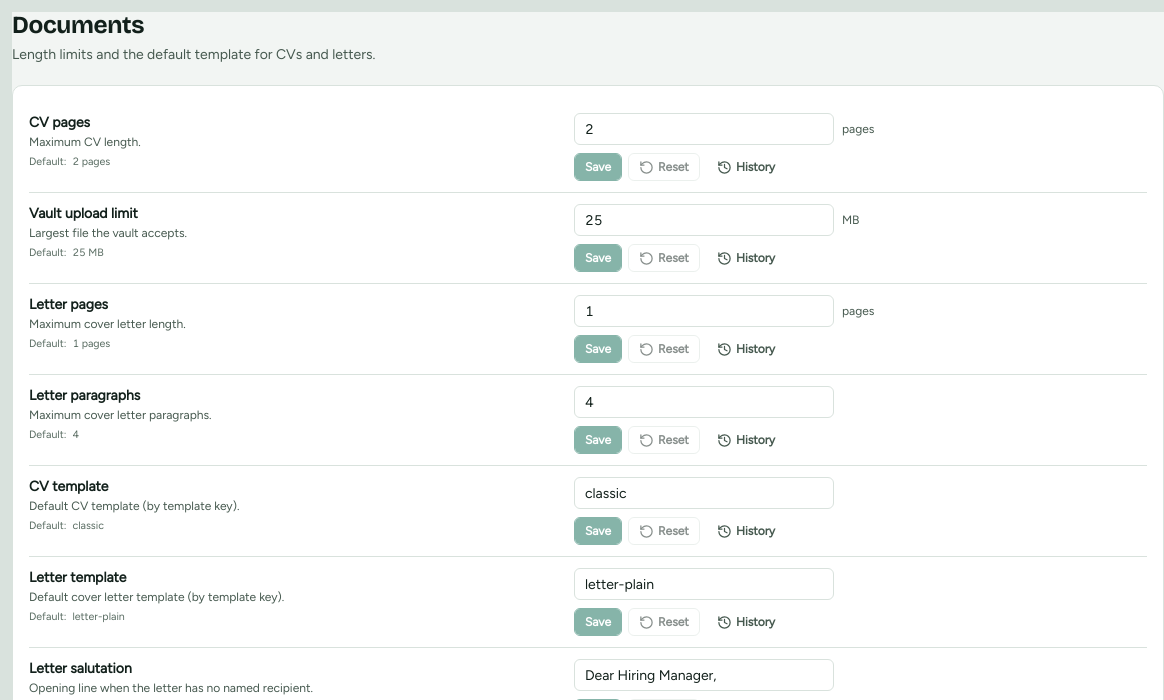
it: SettingRow › lists who changed it in the setting's history
Replace the text in the field labelled "CV pages" with "3": (704, 129) [574,113,834,145]
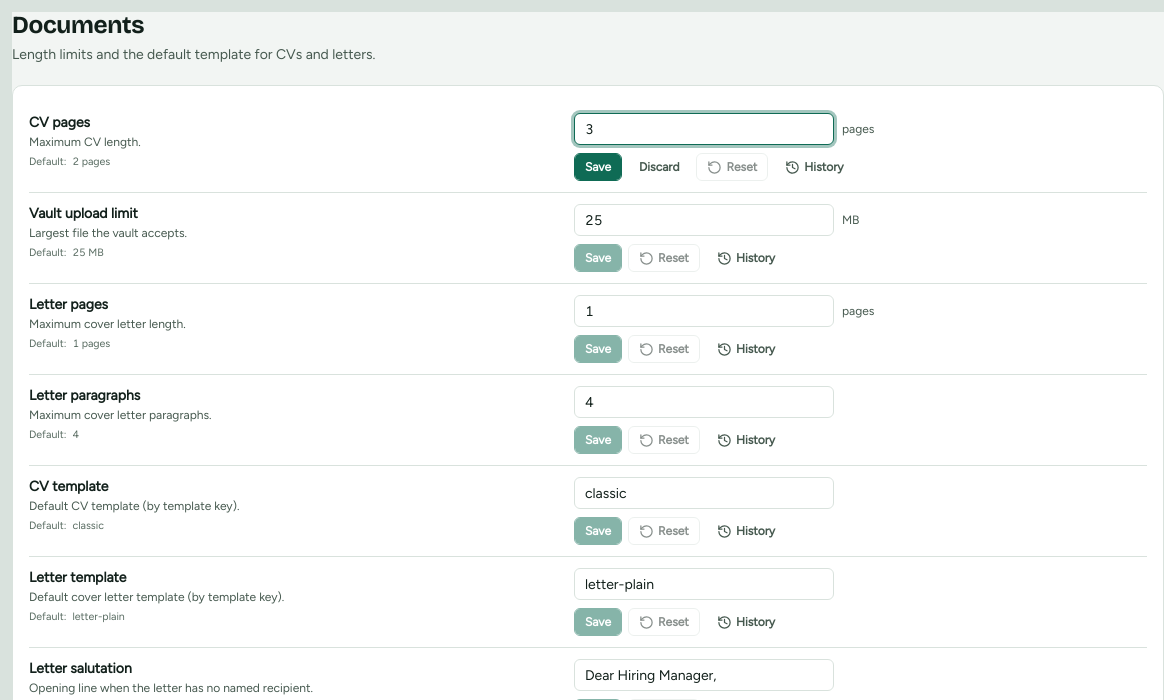
Click the button with aria-label "Save CV pages": (598, 167) [574,153,622,181]
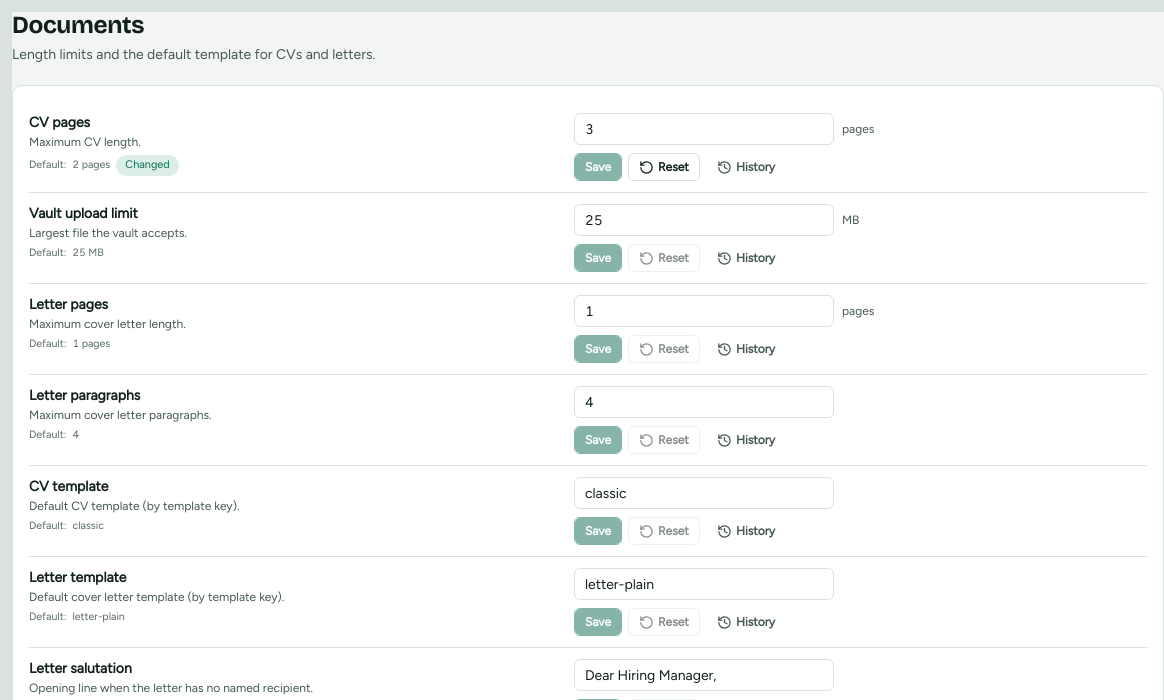
Now the button with aria-label "Reset CV pages to default" is enabled, box [628,153,700,181]
Click the button with aria-label "CV pages history": (746, 167) [706,153,786,181]
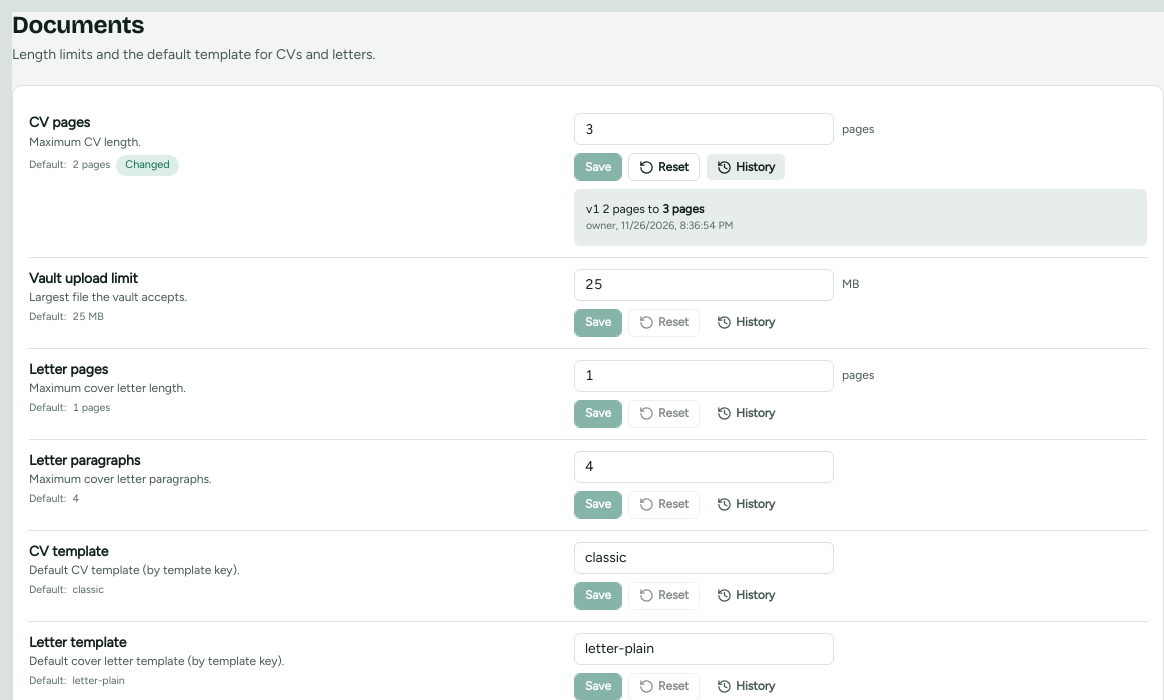
Now the list named "CV pages changes" shows "2 pages to 3 pages", box [574,189,1147,246]
Now the list named "CV pages changes" shows "owner", box [586,219,616,232]
